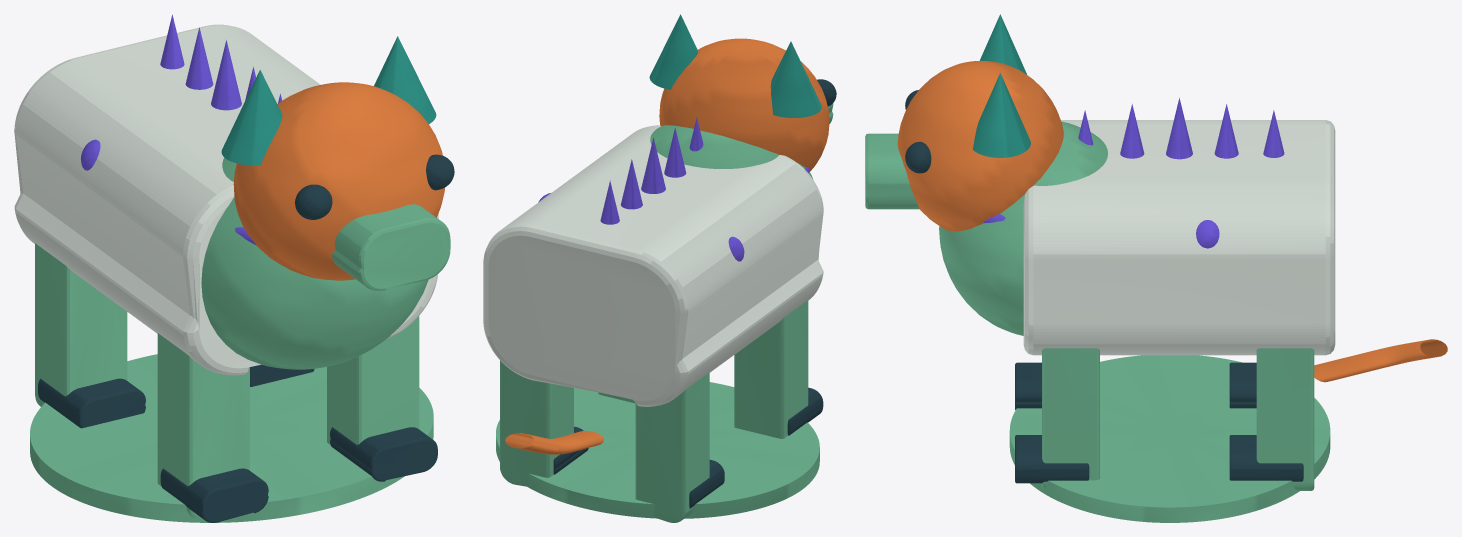
File: 0164_恐龙图鉴_恐爪龙.glb
3 views of the same model, side by side, from view 1: azimuth 30°, elevation 25°; view 2: azimuth 150°, elevation 25°; view 3: azimuth 270°, elevation 25° (orthographic). The views are drawn at different scales.
Visible parts, largest first — view 1: card_0164; view 2: card_0164; view 3: card_0164.
Part boxes in pixels (x1,y1,x2,y2): card_0164: (14, 14, 454, 522); card_0164: (483, 14, 836, 522); card_0164: (865, 14, 1447, 522).
Bounding box in the file's own units: 0.8128 × 1 × 1.3.
